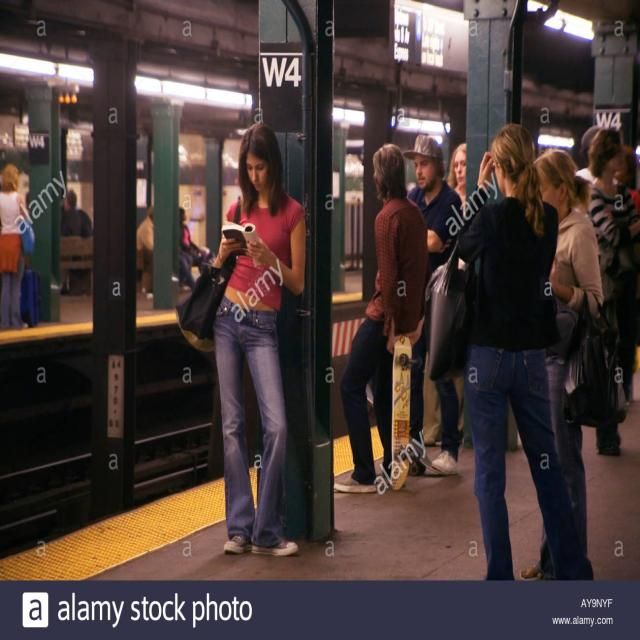body: (422, 119, 596, 583), (171, 119, 310, 563), (327, 140, 431, 497), (520, 147, 604, 581), (402, 130, 462, 478), (584, 125, 640, 459), (0, 162, 36, 332), (577, 119, 639, 181), (16, 170, 36, 328), (178, 207, 217, 275), (135, 200, 155, 294), (60, 188, 93, 234), (449, 139, 471, 208), (177, 249, 196, 296)
